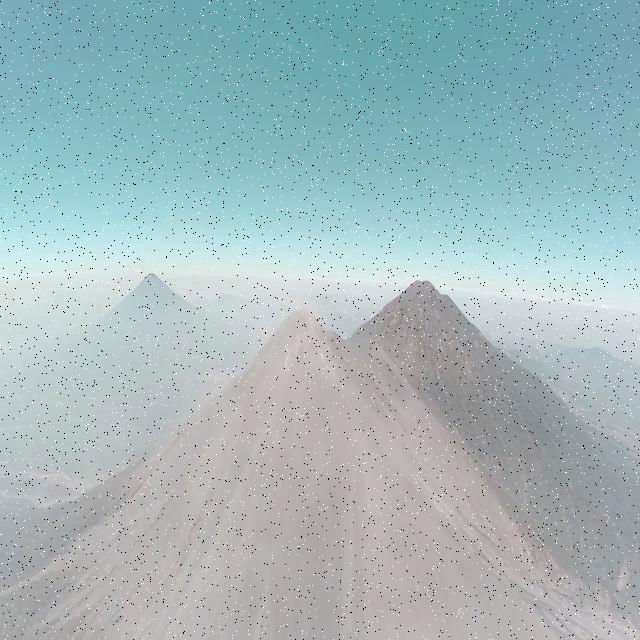Summit: (242, 305, 344, 374)
